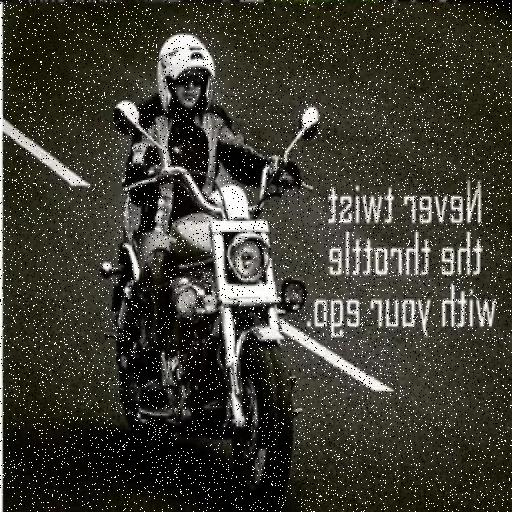Helmet: (159, 39, 221, 113)
Motor: (109, 192, 311, 493)
